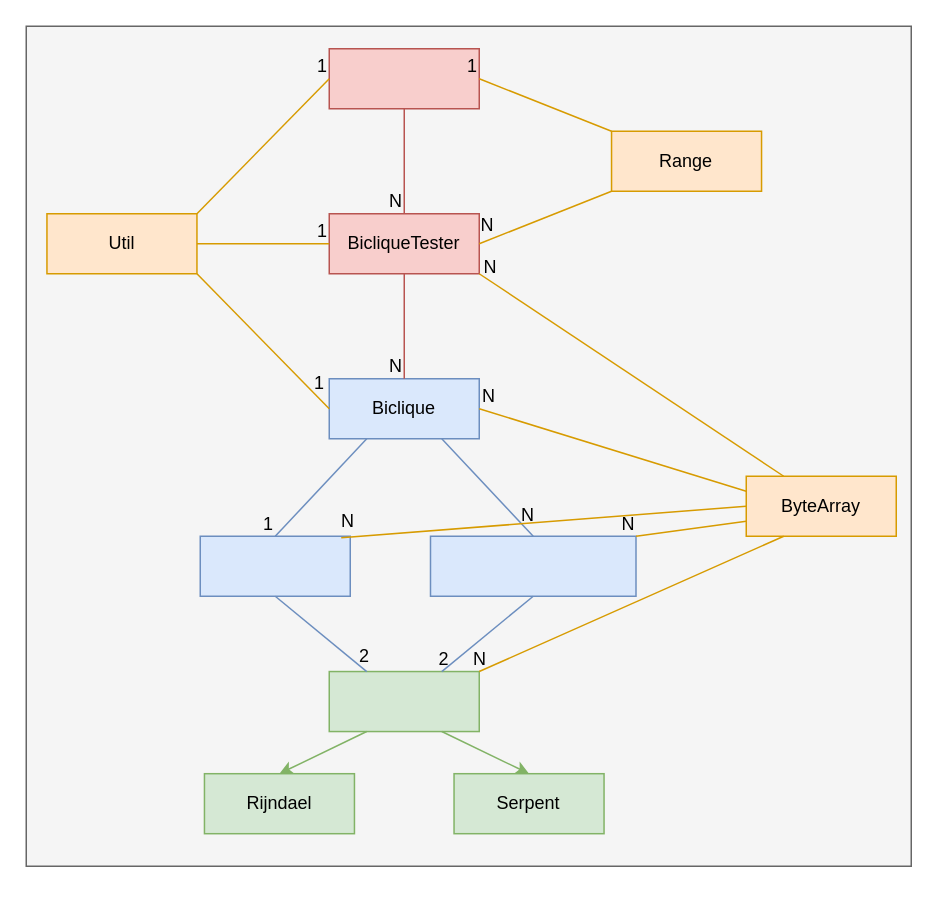
Some shapes in this 938 by 905 pixel diagram are drawn without their labels. The shapes that lost their labels are listed below. From the top down, each one's centre as x and y in pixels, then its label:
point 403,78: Main
point 274,565: StateDifferential
point 532,565: RelatedKeyDifferential
point 403,701: Cipher
